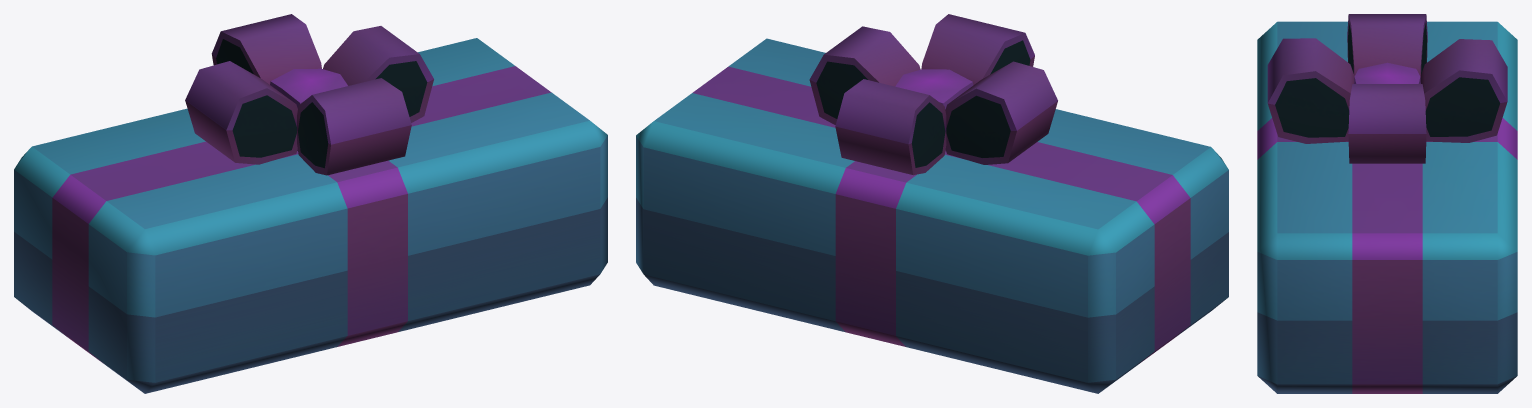
The model's file is presi_square_3_blue.fbx.
The picture shows the model from 3 angles, left to right: view 1: azimuth 30°, elevation 25°; view 2: azimuth 150°, elevation 25°; view 3: azimuth 270°, elevation 25°; orthographic projection. The views are drawn at different scales.
Parts seen in each view (by area): view 1: presi_square_3_blue; view 2: presi_square_3_blue; view 3: presi_square_3_blue.
Part boxes in pixels (bbox=[...]): presi_square_3_blue: bbox=[14, 14, 607, 393]; presi_square_3_blue: bbox=[636, 14, 1228, 393]; presi_square_3_blue: bbox=[1257, 14, 1517, 393].
Size of the model in its own units: 156 by 74 by 75.
Materials: 1 (1 with a texture image).
